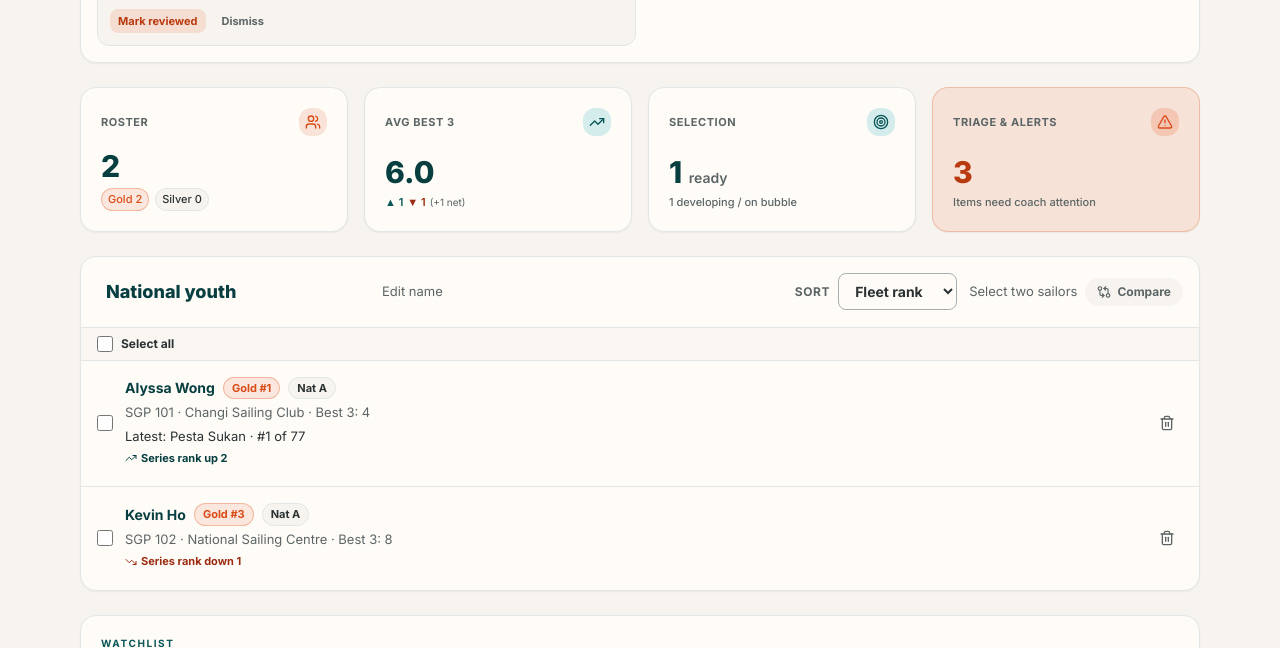
Test: CoachDashboard › supports bulk selection and bulk deletion of sailors
The image size is (1280, 648).
(page scrolled)
Check select all
Click the checkbox named "Select all sailors" at [105, 344], box top-left (97, 336), bottom-right (113, 352)
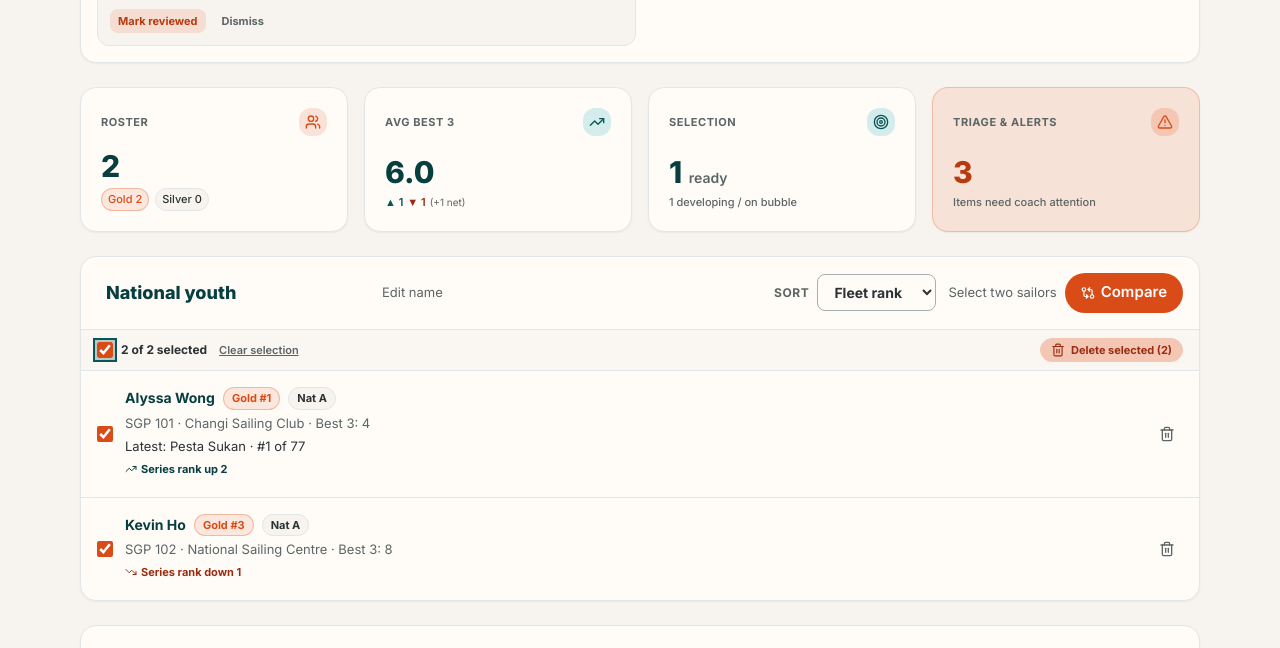
expect the text "2 of 2 selected" is shown: met, box top-left (121, 342), bottom-right (207, 358)
Click delete selected
Click the button "Delete selected (2)" at [1111, 350], box top-left (1040, 338), bottom-right (1183, 362)
(page scrolled)
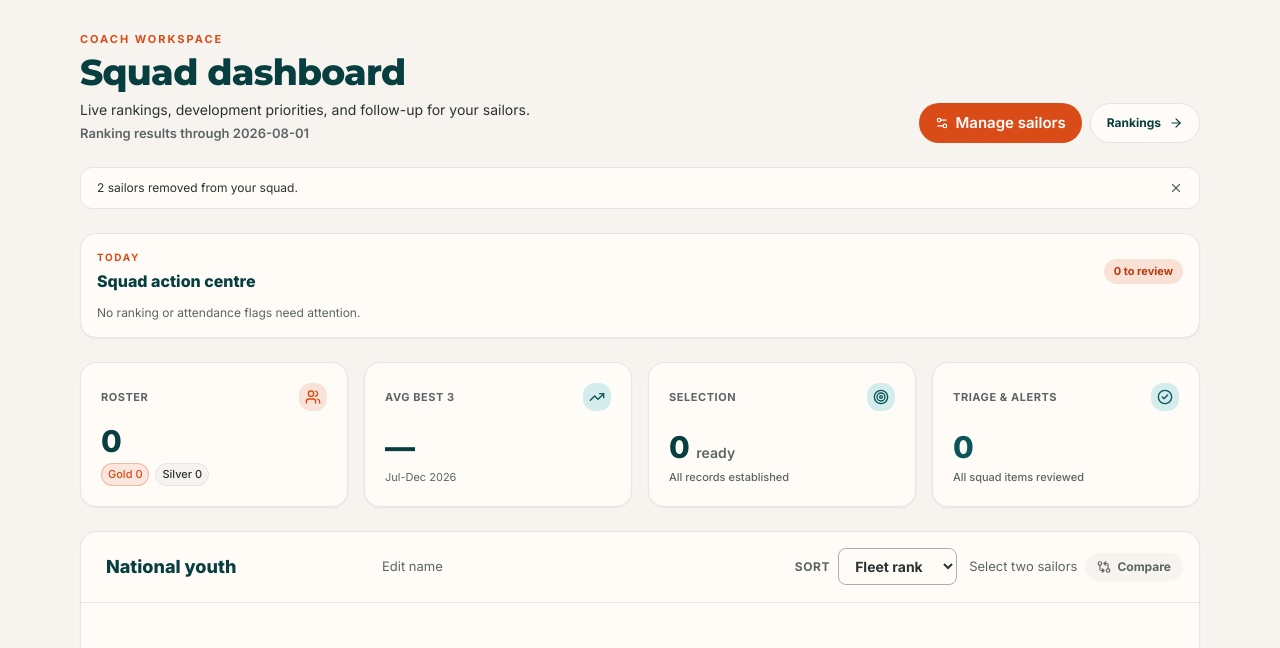
expect the message shows "2 sailors removed from your squad": met, box top-left (97, 180), bottom-right (298, 195)
